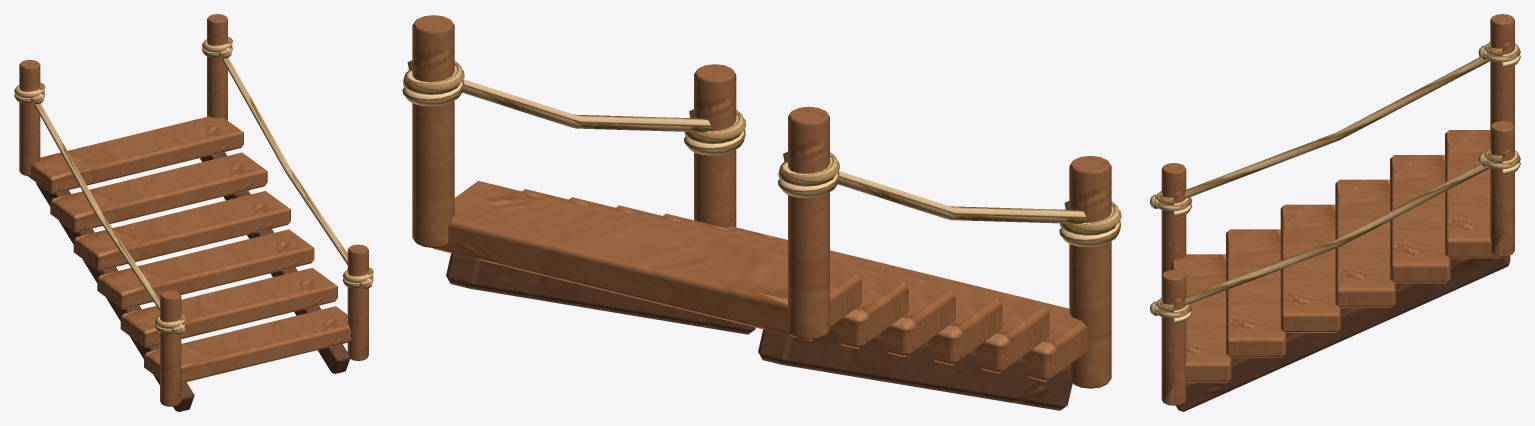
Rendered from SM_Dock_Stairs.glb.
3 views of the same model, side by side, from view 1: azimuth 30°, elevation 25°; view 2: azimuth 150°, elevation 25°; view 3: azimuth 270°, elevation 25° (orthographic). The views are drawn at different scales.
Visible parts, largest first — view 1: SM_Dock_Stairs; view 2: SM_Dock_Stairs; view 3: SM_Dock_Stairs.
Part boxes in pixels (x1,y1,x2,y2): SM_Dock_Stairs: (14,14,373,411); SM_Dock_Stairs: (402,15,1121,410); SM_Dock_Stairs: (1150,14,1520,411).
Size of the model in its own units: 1.76 by 1.97 by 2.26.
1 material, 1 textured.
